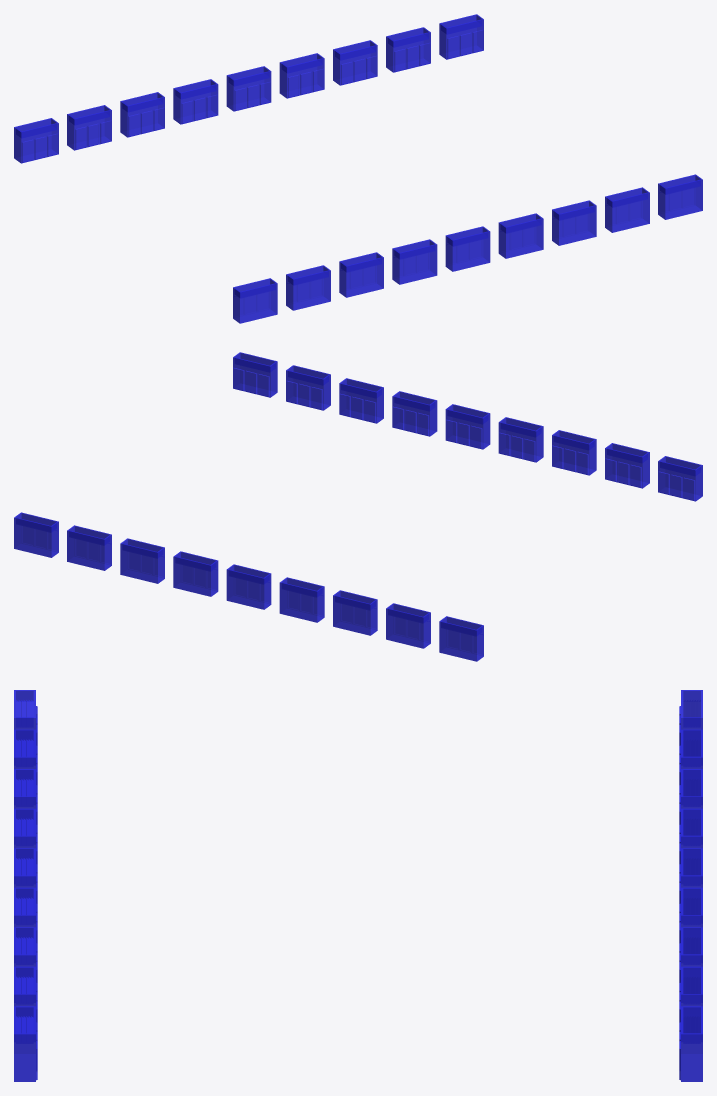
File: klime.FBX
The picture shows the model from 3 angles, top to bottom: view 1: azimuth 30°, elevation 25°; view 2: azimuth 150°, elevation 25°; view 3: azimuth 270°, elevation 25°; orthographic projection. The views are drawn at different scales.
Visible parts, largest first — view 1: pdx019; view 2: pdx019; view 3: pdx019.
Part boxes in pixels (x1,y1,x2,y2): pdx019: [14, 14, 702, 323]; pdx019: [14, 352, 702, 661]; pdx019: [14, 690, 702, 1081].
Size of the model in its own units: 418 by 26.93 by 354.
